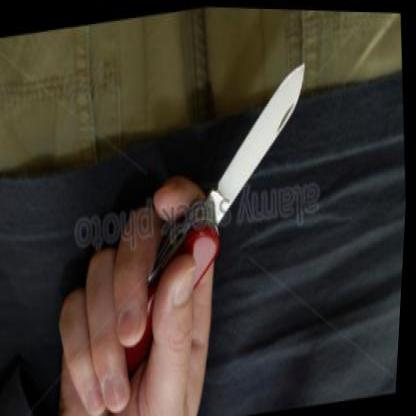knife: (92, 46, 334, 372)
